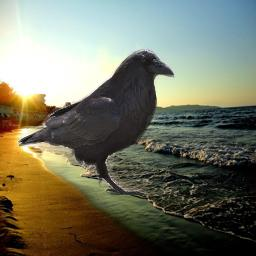Crow: (16, 48, 176, 195)
